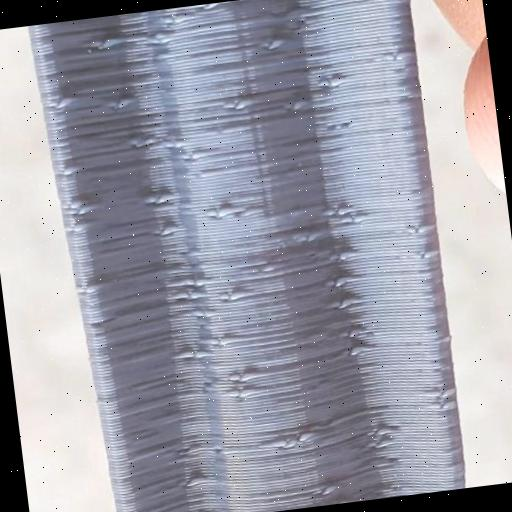blobs: (69, 193, 102, 221), (143, 23, 177, 48), (144, 190, 174, 212), (60, 160, 85, 185), (324, 69, 350, 91), (223, 94, 249, 114), (330, 269, 352, 292), (182, 472, 210, 490), (226, 286, 250, 306), (214, 330, 234, 354), (174, 344, 194, 368), (156, 224, 180, 244), (210, 202, 236, 220), (386, 48, 407, 70), (128, 134, 149, 156), (225, 385, 246, 406), (265, 33, 286, 54), (352, 209, 376, 227), (374, 437, 398, 455), (337, 246, 358, 266), (114, 96, 137, 114), (52, 92, 76, 109), (338, 292, 358, 312), (234, 382, 254, 402), (317, 480, 337, 500), (184, 148, 206, 166), (372, 424, 396, 440), (344, 345, 368, 361), (404, 222, 428, 238), (332, 200, 352, 218), (294, 426, 316, 442), (270, 438, 292, 454), (285, 102, 310, 116), (80, 278, 99, 296), (342, 326, 366, 340), (168, 136, 190, 151), (194, 344, 212, 362), (192, 306, 212, 322), (238, 368, 260, 382), (224, 368, 242, 385), (186, 290, 206, 303), (188, 274, 207, 287)
